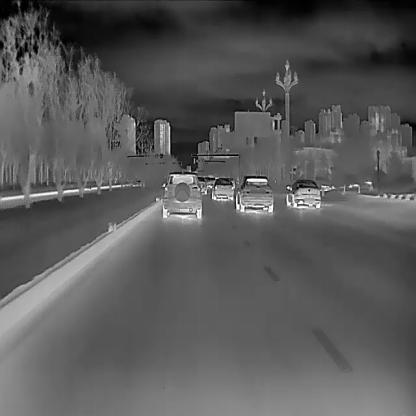car: (161, 171, 203, 218), (235, 174, 273, 212), (285, 179, 320, 207), (211, 176, 234, 199), (197, 175, 207, 193), (205, 176, 215, 186)
